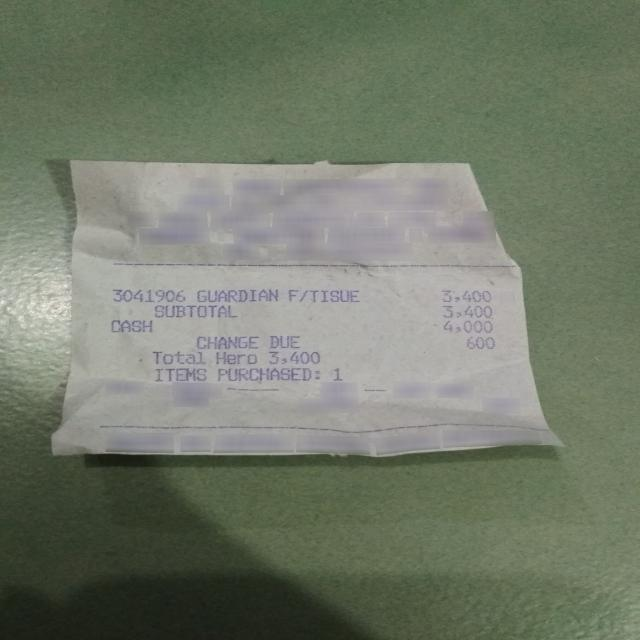kertas: (53, 161, 561, 457)
